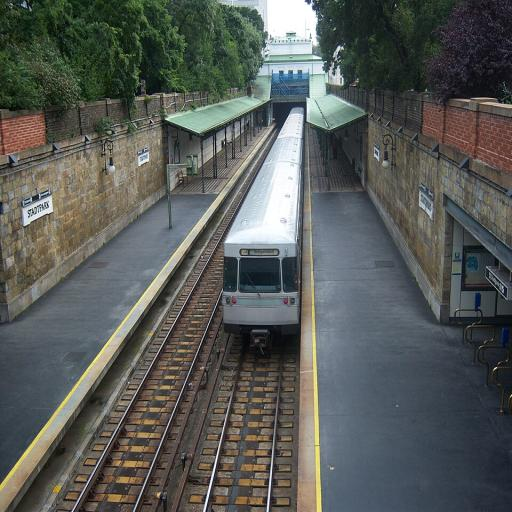Silberpfeil: (217, 104, 306, 369)
